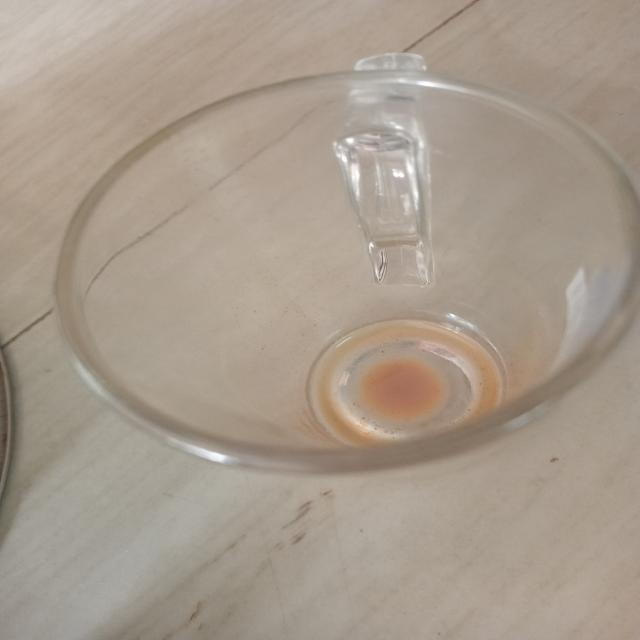glass-VX4N: (44, 48, 640, 410)
